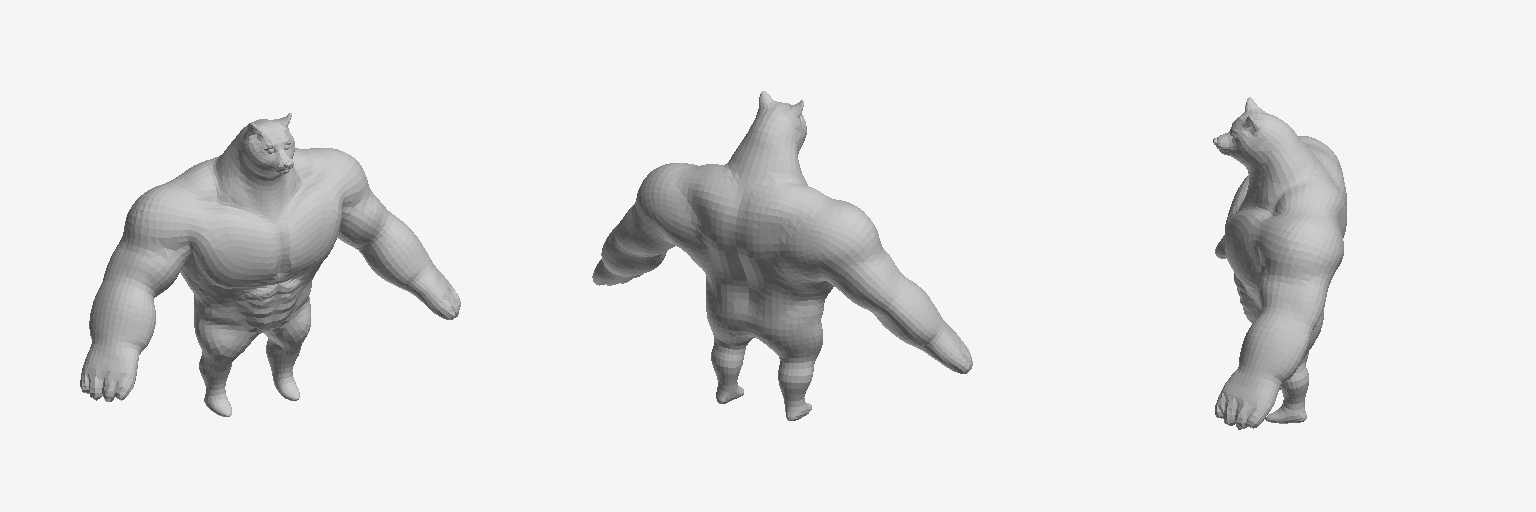
3 renders of one model, left to right at view 1: azimuth 30°, elevation 25°; view 2: azimuth 150°, elevation 25°; view 3: azimuth 270°, elevation 25°, orthographic.
Visible parts, largest first — view 1: Body_Mat_0_material; view 2: Body_Mat_0_material; view 3: Body_Mat_0_material.
Part boxes in pixels (x1,y1,x2,y2): Body_Mat_0_material: (80, 113, 460, 416); Body_Mat_0_material: (592, 91, 972, 420); Body_Mat_0_material: (1215, 97, 1346, 429).
Size of the model in its own units: 275 by 208 by 84.64.